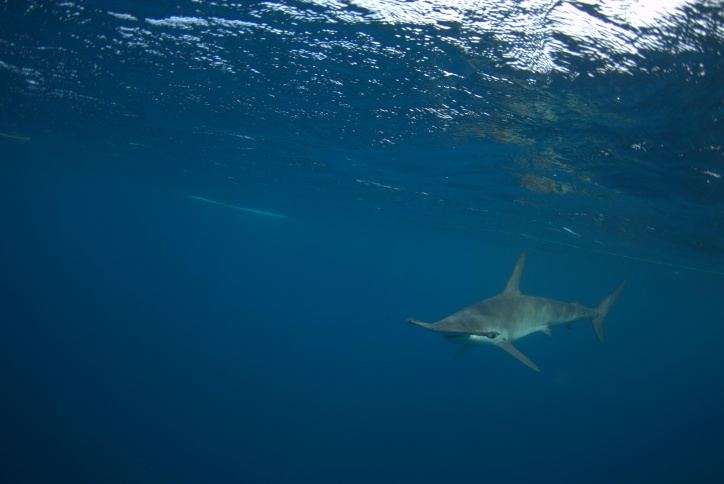Hammer: (364, 235, 647, 395)
